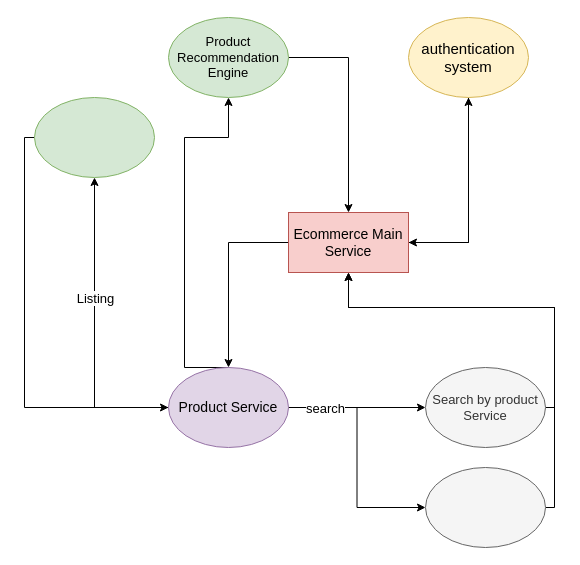
The diagram is 580 pixels wide and 565 high, and some of its shapes have lost their labels. Each missing label, with the centre of its shape:
Product classification policy Service: point (94, 137)
search by category Service: point (485, 507)
